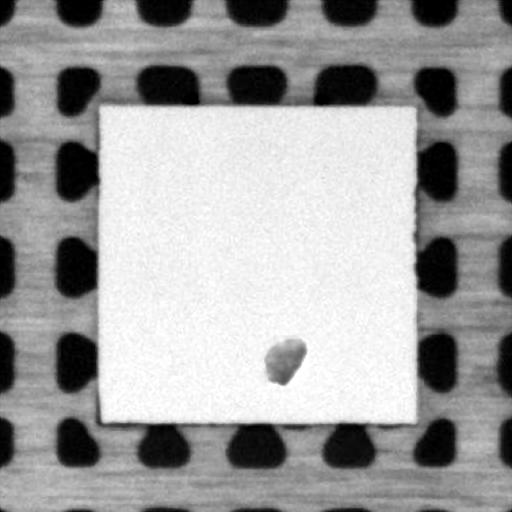DIE_INK: (258, 332, 308, 385)
